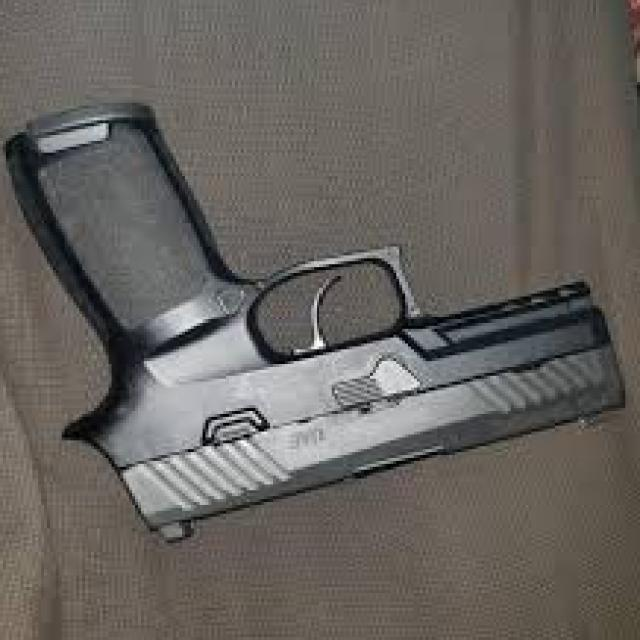Gun: (1, 100, 610, 522)
